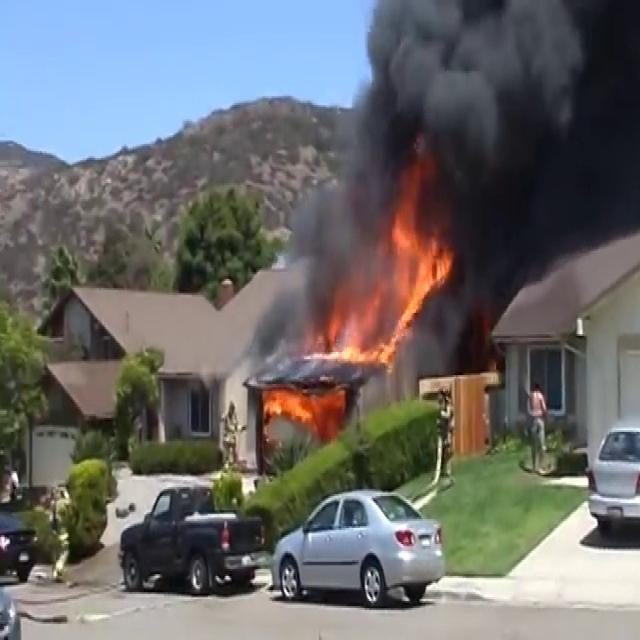Fire: (317, 186, 453, 374), (258, 380, 342, 420)
Smoke: (267, 0, 640, 299)
